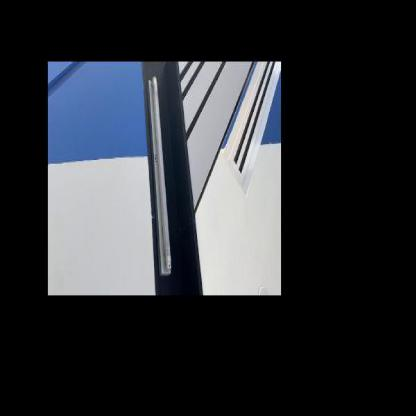light_off: (142, 72, 178, 278)
